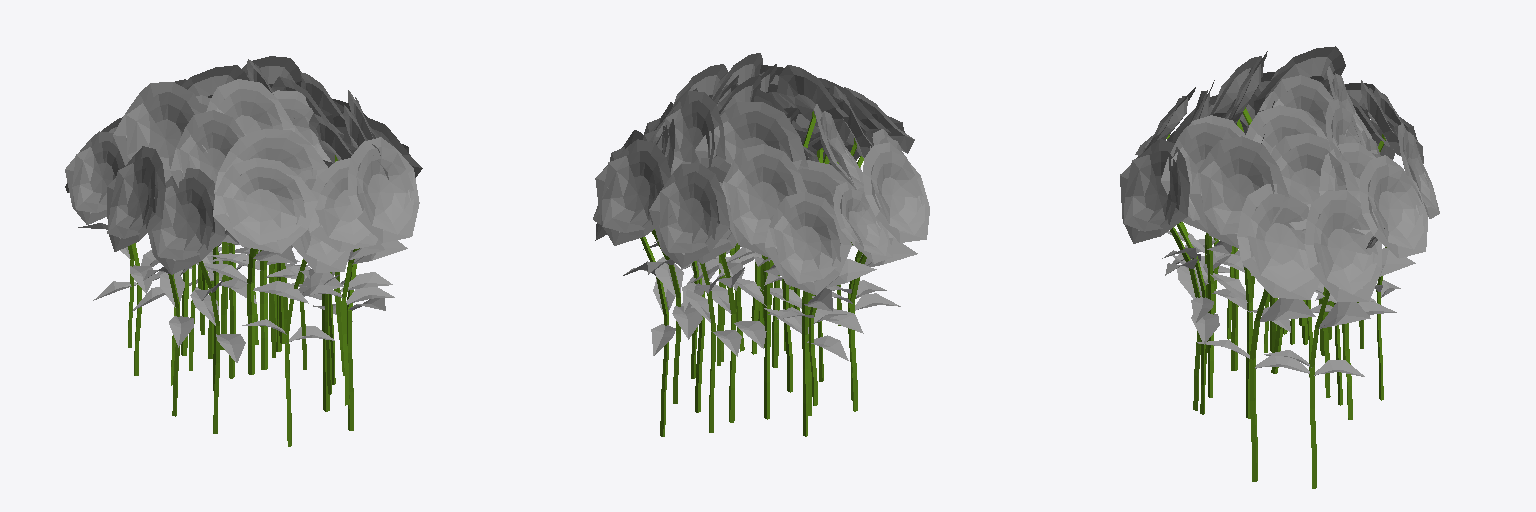
The picture shows the model from 3 angles: view 1: azimuth 30°, elevation 25°; view 2: azimuth 150°, elevation 25°; view 3: azimuth 270°, elevation 25°; orthographic projection.
Parts seen in each view (by area): view 1: flower_orange; view 2: flower_orange; view 3: flower_orange.
Part boxes in pixels (x1,y1,x2,y2): flower_orange: (65, 56, 422, 446); flower_orange: (593, 53, 929, 436); flower_orange: (1120, 46, 1439, 488).
Size of the model in its own units: 0.4278 by 0.5143 by 0.3955.
3 materials, 1 textured.